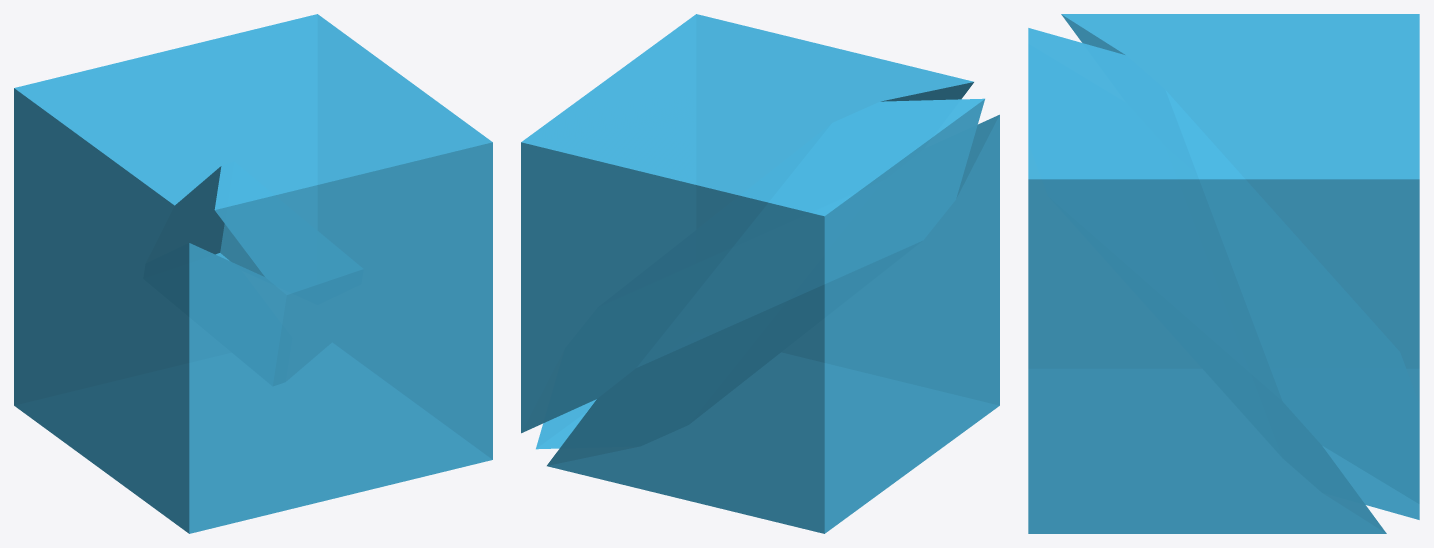
File: HexagonalToroid_I.obj
3 views of the same model, side by side, from view 1: azimuth 30°, elevation 25°; view 2: azimuth 150°, elevation 25°; view 3: azimuth 270°, elevation 25° (orthographic). The views are drawn at different scales.
Bounding box in the file's own units: 12 × 12 × 12.
